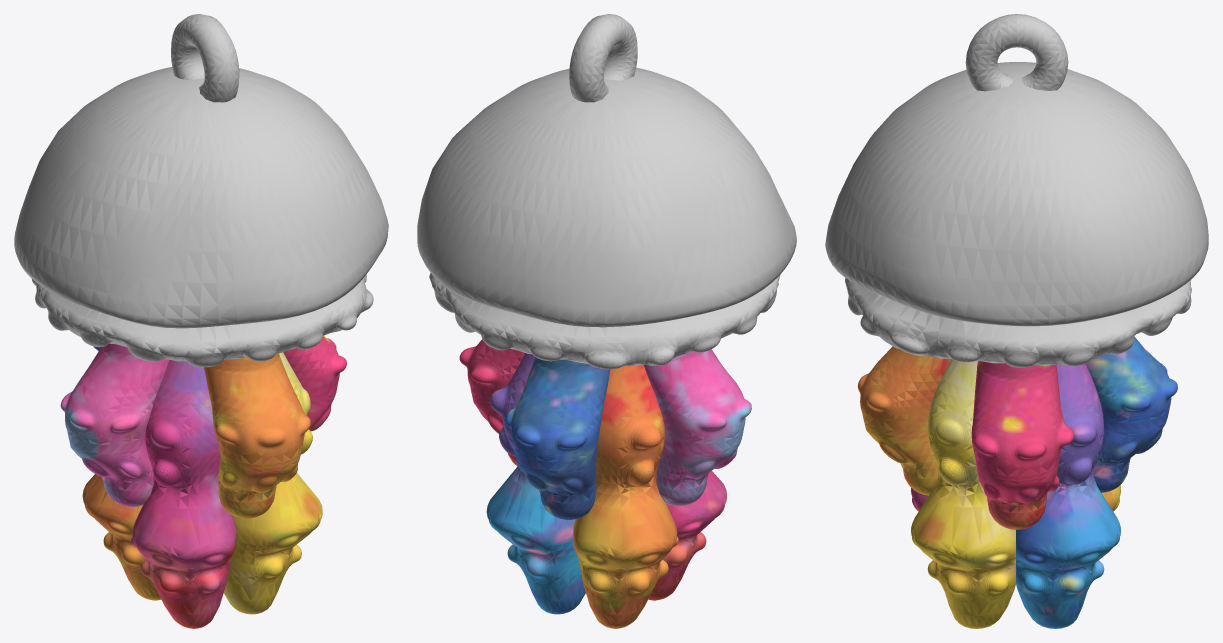
Rendered from enemy.obj.
3 renders of one model, left to right at view 1: azimuth 30°, elevation 25°; view 2: azimuth 150°, elevation 25°; view 3: azimuth 270°, elevation 25°, orthographic. The views are drawn at different scales.
Parts seen in each view (by area): view 1: 21443_Jellyfish_V1; view 2: 21443_Jellyfish_V1; view 3: 21443_Jellyfish_V1.
Boxes of the visible parts, x1,y1,x2,y2 form: 21443_Jellyfish_V1: (14, 14, 388, 628); 21443_Jellyfish_V1: (417, 14, 796, 628); 21443_Jellyfish_V1: (825, 14, 1208, 628).
Size of the model in its own units: 2.52 by 4.33 by 2.52.
3 materials, 1 textured.
